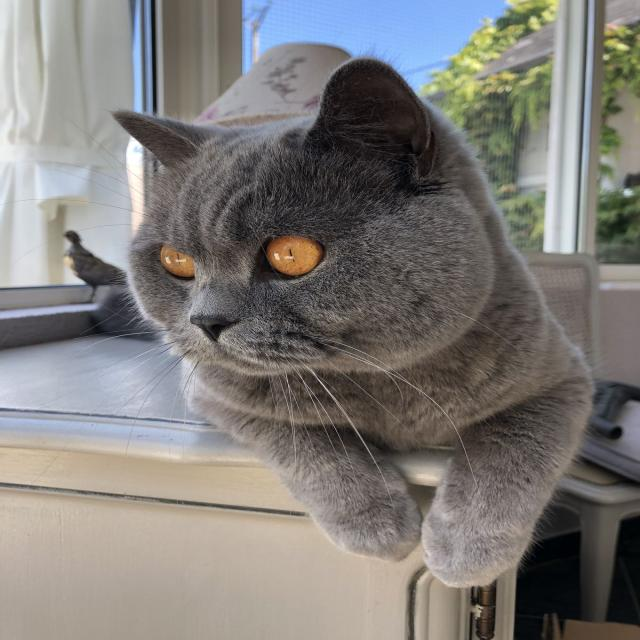british shorthair: (3, 48, 640, 639)
